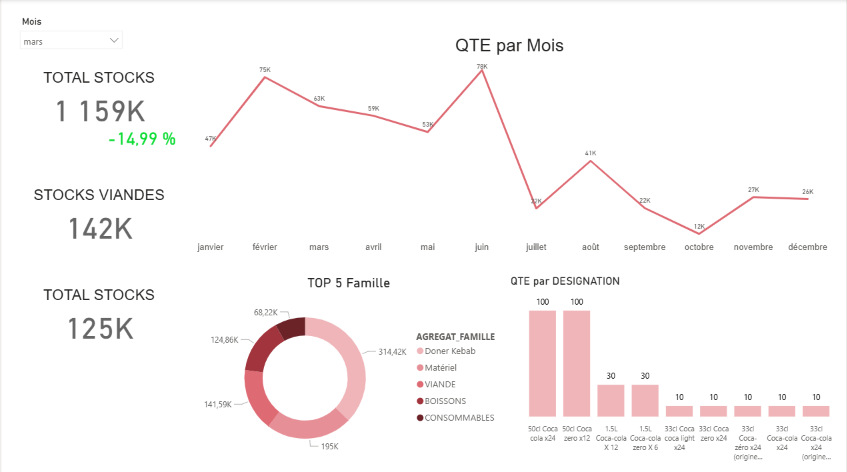

The page's visual inventory and layout, read from the dashboard file:
{"tool":"powerbi","page":{"name":"Page 1","canvas":[1280,720],"ordinal":0},"visuals":[{"type":"slicer","fields":{"Values":["01_STOCKS.DATE.Variation.Hiérarchie de dates.Mois"]},"box":[18.3,20,175,66.7],"z":0},{"type":"card","title":"TOTAL STOCKS","fields":{"Values":["Sum(01_STOCKS.SOMME)"]},"box":[17.8,105.6,260,91.1],"z":1000},{"type":"card","title":"STOCKS VIANDES","fields":{"Values":["01_STOCKS.Total stocks viandes"]},"box":[18.3,283.3,260,91.7],"z":2000},{"type":"card","title":"TOTAL STOCKS","fields":{"Values":["01_STOCKS.Total stocks boissons"]},"box":[18.3,435,260,91.7],"z":3000},{"type":"card","title":"TOTAL STOCKS","fields":{"Values":["01_STOCKS.Var_M_M-1"]},"box":[145,178.3,133.3,60],"z":4000},{"type":"lineChart","title":"QTE par Mois","fields":{"Y":["Sum(01_STOCKS.QTE)"],"Category":["01_STOCKS.DATE.Variation.Hiérarchie de dates.Mois"]},"box":[278,54,982,336],"z":5000},{"type":"donutChart","title":"TOP 5 Famille","fields":{"Y":["Sum(01_STOCKS.SOMME)"],"Category":["01_STOCKS.AGREGAT_FAMILLE"]},"box":[286,416,480,290],"z":6000},{"type":"clusteredColumnChart","fields":{"Y":["Sum(01_STOCKS.QTE)"],"Category":["01_STOCKS.DESIGNATION"]},"box":[766,416,514,290],"z":7000}]}

Visuals, with their boxes in screenshot pixels (x1, y1, x2, y2), scaled from the page's 1280x720 canvas onto the 847x472 screenshot:
slicer - 01_STOCKS.DATE.Variation.Hiérarchie de dates.Mois: box(12, 13, 128, 57)
"TOTAL STOCKS" card: box(12, 69, 184, 129)
"STOCKS VIANDES" card: box(12, 186, 184, 246)
"TOTAL STOCKS" card: box(12, 285, 184, 345)
"TOTAL STOCKS" card: box(96, 117, 184, 156)
"QTE par Mois" lineChart: box(184, 35, 834, 256)
"TOP 5 Famille" donutChart: box(189, 273, 507, 463)
clusteredColumnChart - Sum(01_STOCKS.QTE) x 01_STOCKS.DESIGNATION: box(507, 273, 846, 463)
